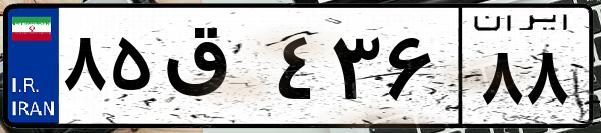3: (330, 28, 385, 110)
4: (270, 28, 330, 110)
5: (110, 28, 158, 98)
6: (385, 28, 445, 110)
8: (57, 26, 110, 100), (475, 38, 525, 113), (525, 38, 570, 115)
ق: (158, 20, 270, 120)
